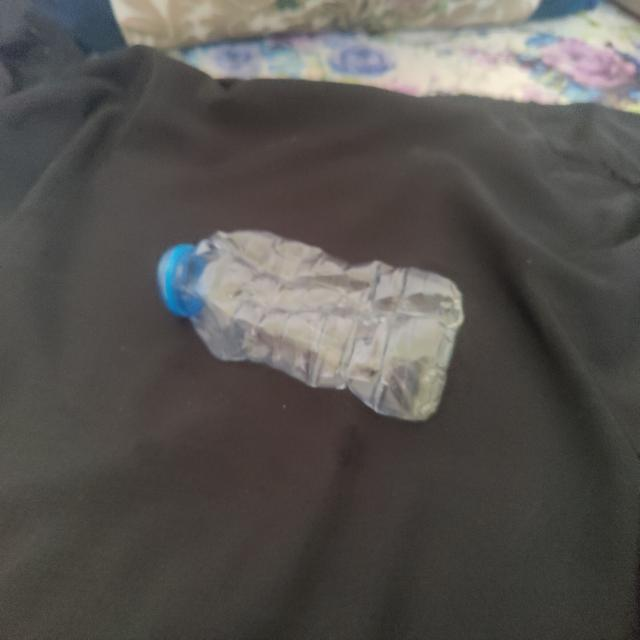plastic: (159, 225, 465, 424)
